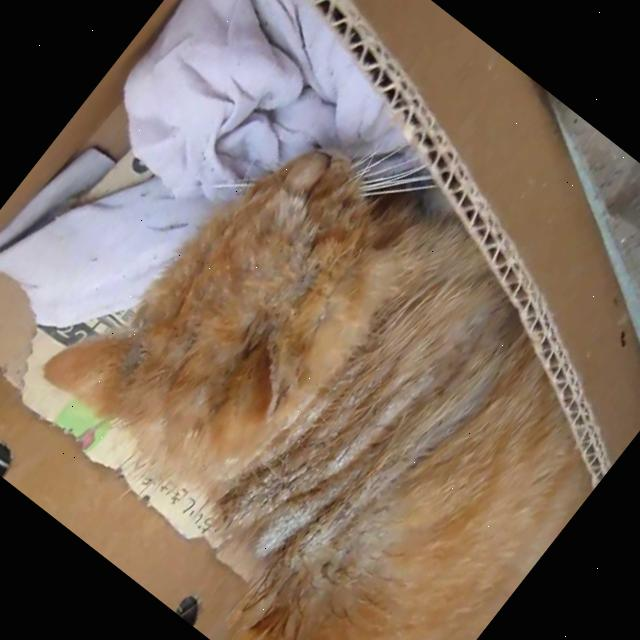cat-scabies: (226, 424, 384, 581), (328, 361, 442, 470), (268, 253, 323, 314)
